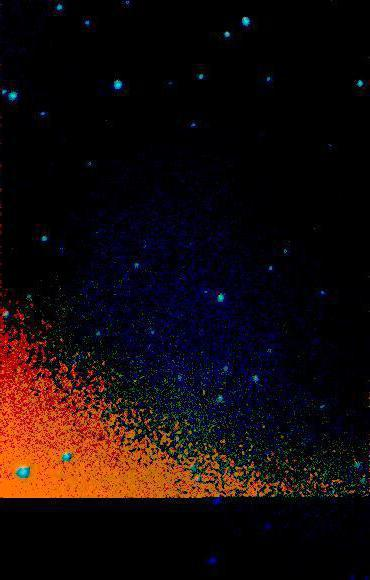star: (91, 102, 121, 132)
